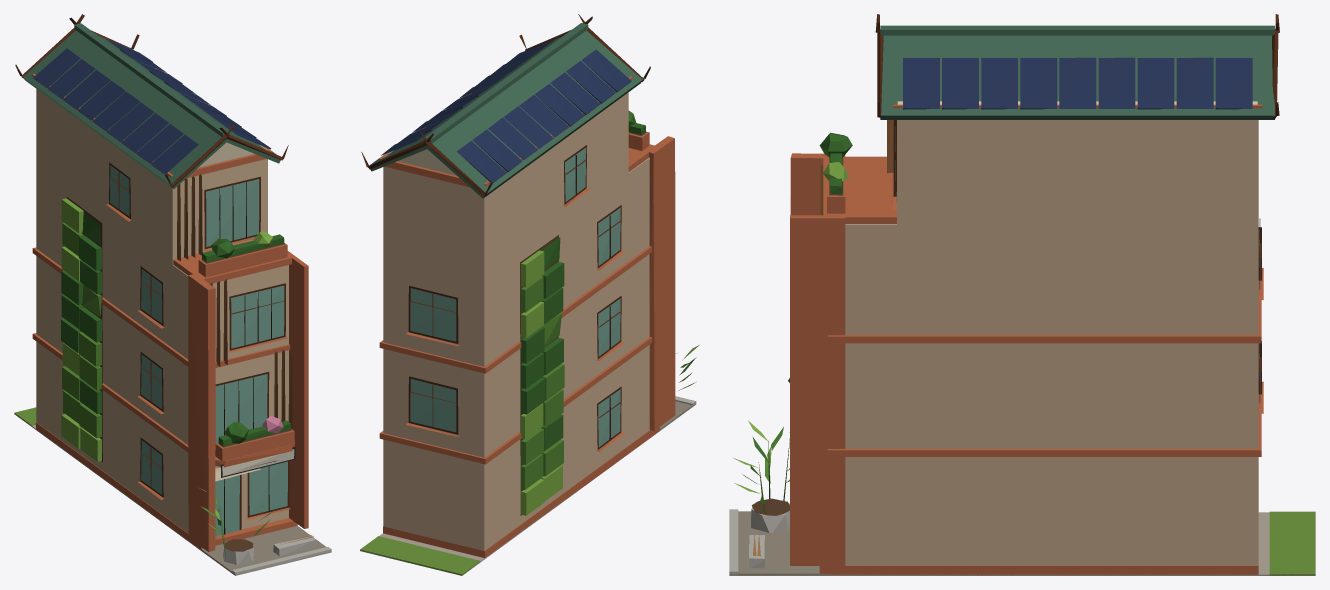
File: bay2_left.glb
3 renders of one model, left to right at view 1: azimuth 30°, elevation 25°; view 2: azimuth 150°, elevation 25°; view 3: azimuth 270°, elevation 25°, orthographic. The views are drawn at different scales.
Visible parts, largest first — view 1: body; view 2: body; view 3: body.
Boxes of the visible parts, x1,y1,x2,y2 form: body: (14, 14, 331, 575); body: (360, 14, 699, 575); body: (729, 14, 1315, 575).
Size of the model in its own units: 5.2 by 15.77 by 15.9.
